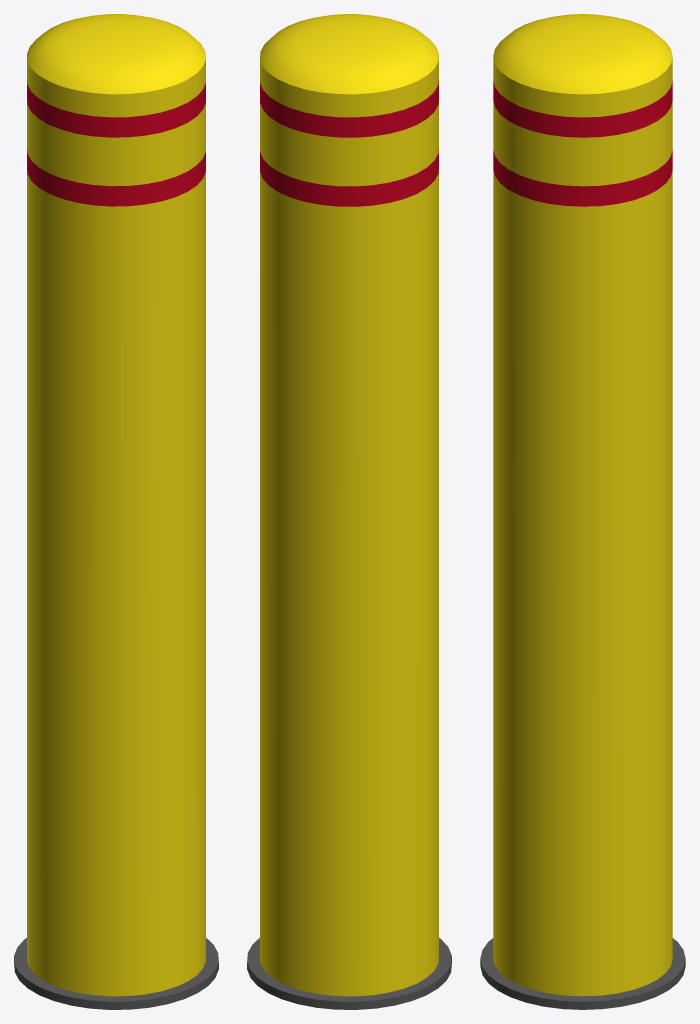
Rendered from dividers-bollard.glb.
The picture shows the model from 3 angles, left to right: view 1: azimuth 30°, elevation 25°; view 2: azimuth 150°, elevation 25°; view 3: azimuth 270°, elevation 25°; orthographic projection.
Parts seen in each view (by area): view 1: bollard; view 2: bollard; view 3: bollard.
Part boxes in pixels (box(x1,y1,x2,y2)): bollard: box(14, 14, 218, 1009); bollard: box(247, 14, 451, 1009); bollard: box(480, 14, 685, 1009).
Bounding box in the file's own units: 0.2029 × 1.02 × 0.2029.
Materials: 1 (1 with a texture image).
